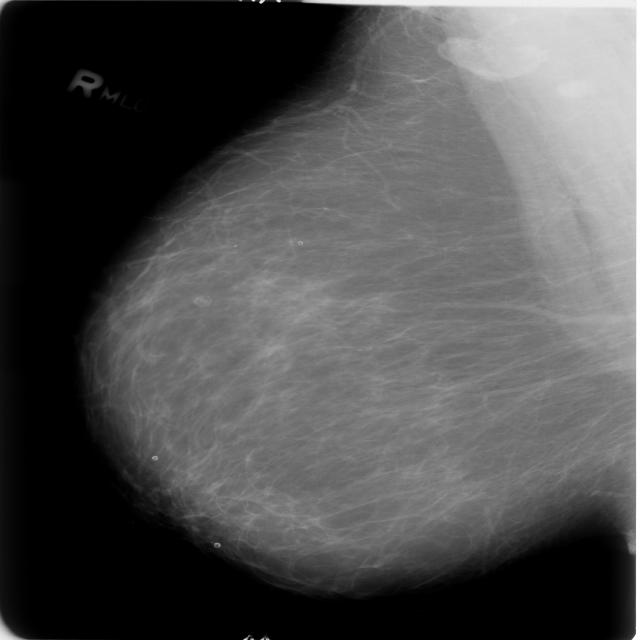normal: (53, 0, 640, 594)
